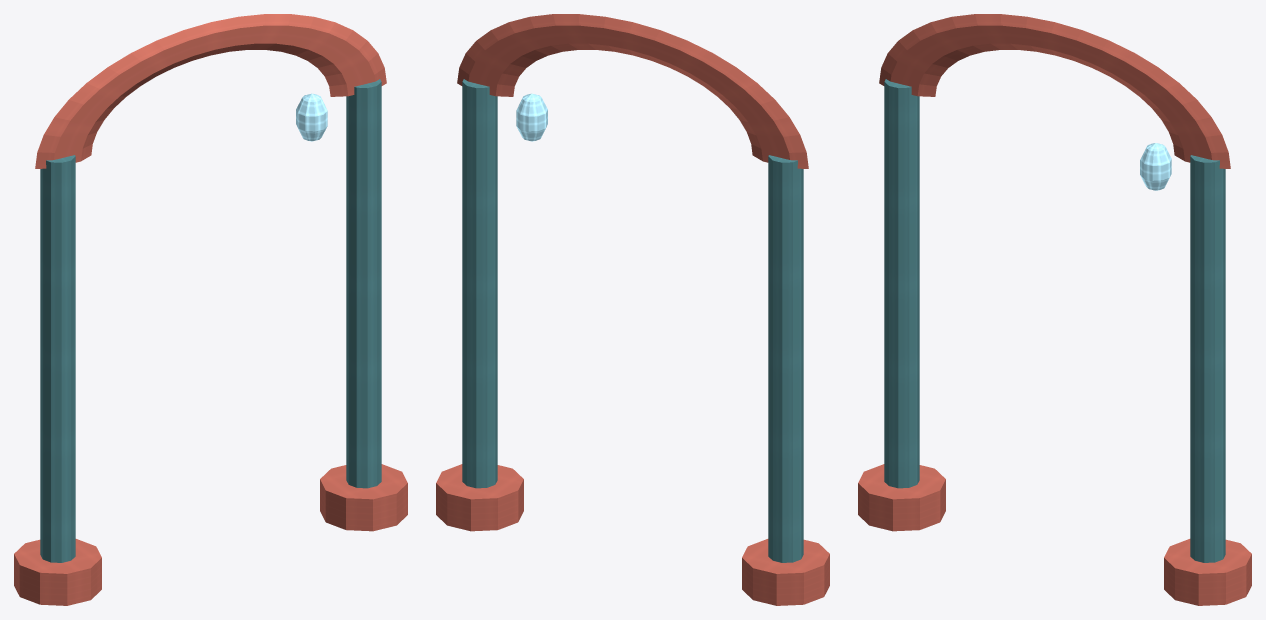
Rendered from atlas100-s071-a09.lod1.glb.
The picture shows the model from 3 angles, left to right: view 1: azimuth 30°, elevation 25°; view 2: azimuth 150°, elevation 25°; view 3: azimuth 330°, elevation 25°; orthographic projection.
Visible parts, largest first — view 1: atlas100-s071-a09:part-004, atlas100-s071-a09:part-000, atlas100-s071-a09:part-002, atlas100-s071-a09:part-001, atlas100-s071-a09:part-003, atlas100-s071-a09:part-006; view 2: atlas100-s071-a09:part-004, atlas100-s071-a09:part-000, atlas100-s071-a09:part-002, atlas100-s071-a09:part-001, atlas100-s071-a09:part-003, atlas100-s071-a09:part-006; view 3: atlas100-s071-a09:part-004, atlas100-s071-a09:part-002, atlas100-s071-a09:part-000, atlas100-s071-a09:part-003, atlas100-s071-a09:part-001, atlas100-s071-a09:part-006.
Part boxes in pixels (left/top/right/bottom): atlas100-s071-a09:part-004: left=35, top=14, right=386, bottom=168; atlas100-s071-a09:part-000: left=40, top=155, right=75, bottom=562; atlas100-s071-a09:part-002: left=346, top=79, right=381, bottom=488; atlas100-s071-a09:part-001: left=14, top=539, right=101, bottom=605; atlas100-s071-a09:part-003: left=320, top=464, right=407, bottom=531; atlas100-s071-a09:part-006: left=296, top=93, right=327, bottom=141; atlas100-s071-a09:part-004: left=457, top=14, right=808, bottom=168; atlas100-s071-a09:part-000: left=768, top=155, right=803, bottom=562; atlas100-s071-a09:part-002: left=462, top=79, right=497, bottom=488; atlas100-s071-a09:part-001: left=742, top=539, right=829, bottom=605; atlas100-s071-a09:part-003: left=436, top=464, right=523, bottom=531; atlas100-s071-a09:part-006: left=516, top=93, right=547, bottom=141; atlas100-s071-a09:part-004: left=879, top=14, right=1230, bottom=168; atlas100-s071-a09:part-002: left=1190, top=155, right=1225, bottom=562; atlas100-s071-a09:part-000: left=884, top=79, right=919, bottom=488; atlas100-s071-a09:part-003: left=1164, top=539, right=1251, bottom=605; atlas100-s071-a09:part-001: left=858, top=464, right=945, bottom=531; atlas100-s071-a09:part-006: left=1140, top=143, right=1171, bottom=190.
Bounding box in the file's own units: 2.5 × 3.3 × 0.4755.
3 materials, 3 textured.
